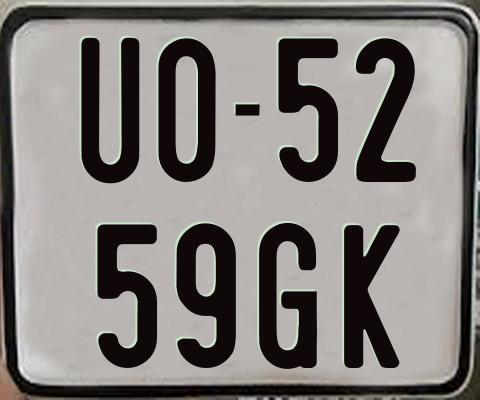0: (155, 35, 214, 185)
2: (356, 38, 416, 186)
5: (96, 221, 158, 371), (275, 36, 335, 185)
9: (173, 222, 237, 373)
G: (256, 220, 314, 370)
K: (344, 222, 401, 365)
U: (78, 35, 136, 183)
